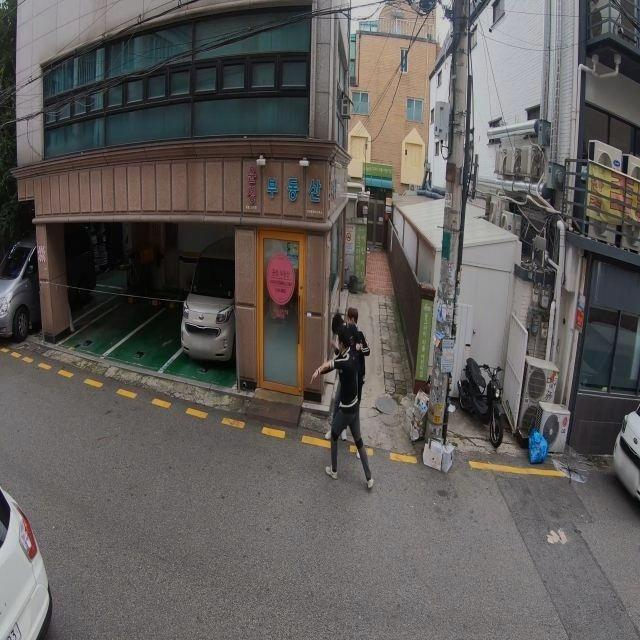fight: (313, 307, 374, 491)
